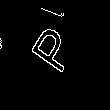P_NW: (21, 16, 78, 74)
